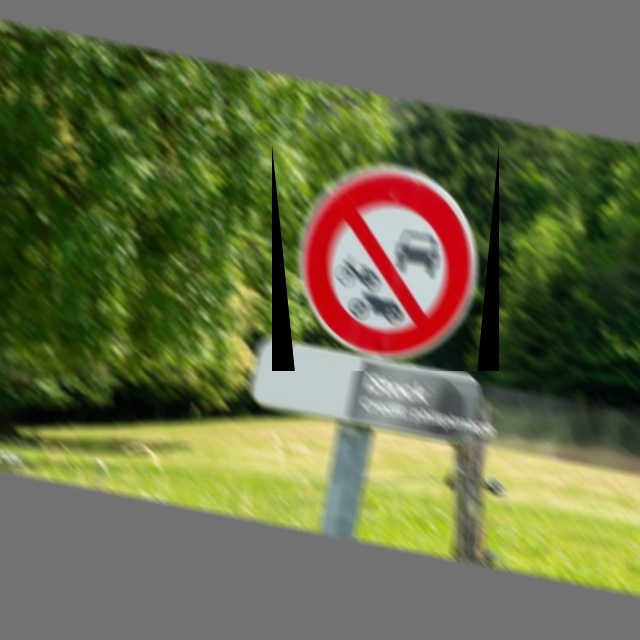All_Motor_Vehicles_Prohibited: (272, 144, 499, 371)
